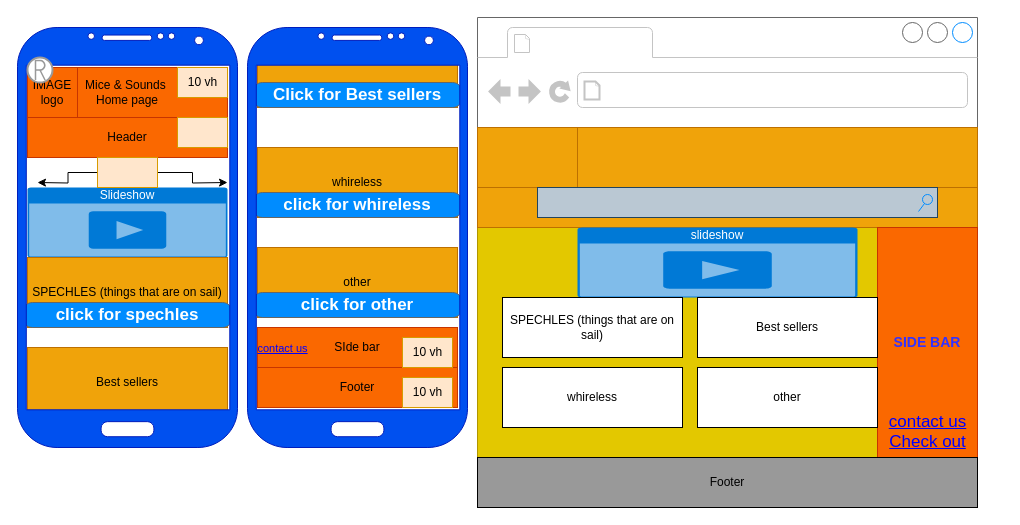
The diagram is 1020 pixels wide and 525 high, and some of its shapes have lost their labels. The centre of each missing label's shape, as x and y in pixels:
"100vw" goes at (127,172).
"5 vh" goes at (202,132).
"LOGO" goes at (527,157).
"mead size" goes at (592,42).
"MICE & SOUNDS" goes at (777,157).
"serch" goes at (737,202).
"www.mice&sounds.com.nz" goes at (732,90).
